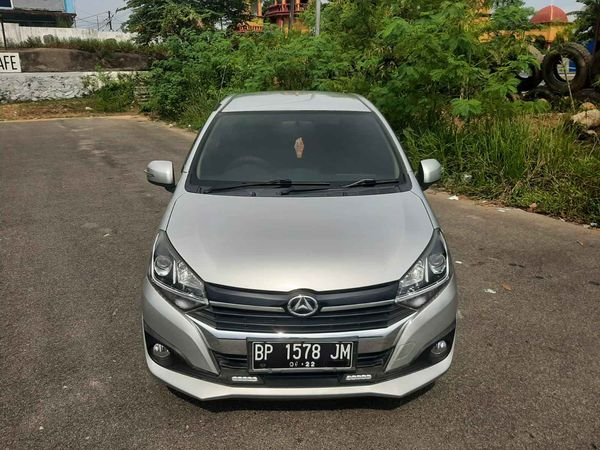plate: (245, 337, 361, 375)
